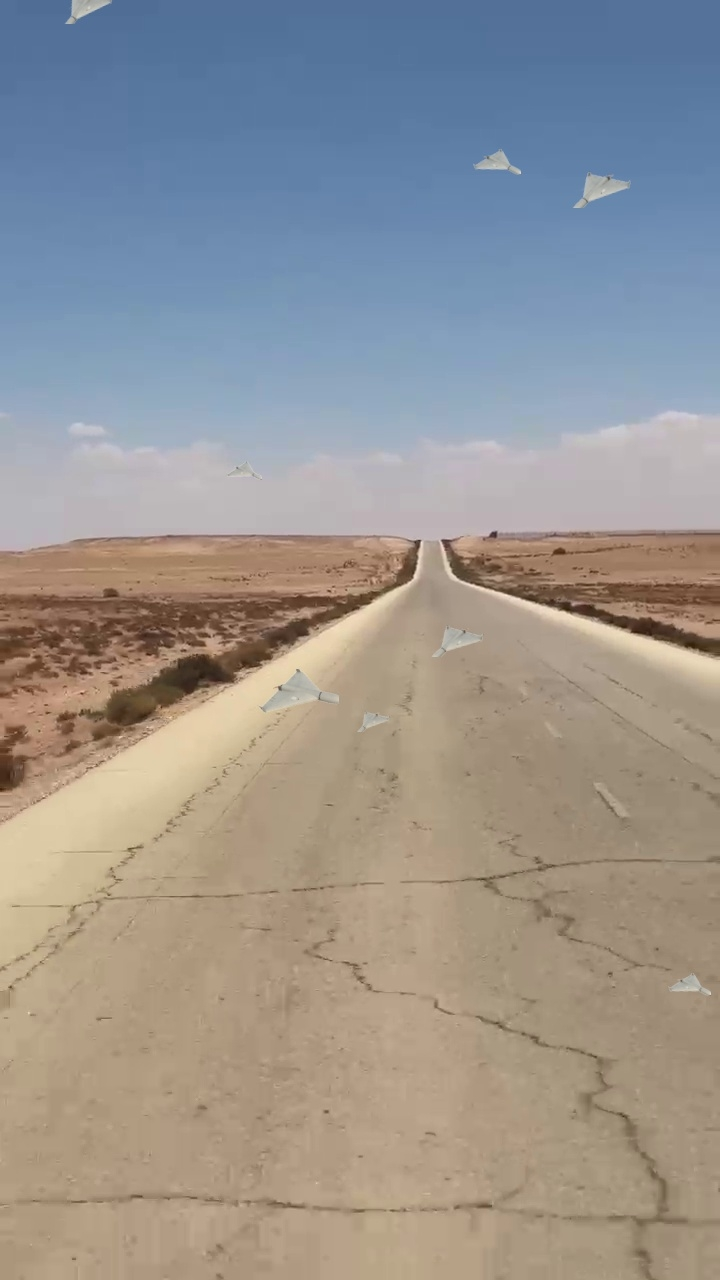shahed: (257, 670, 339, 718), (568, 170, 632, 208), (428, 624, 484, 656), (473, 150, 521, 178), (57, 0, 115, 23), (669, 974, 711, 998), (354, 711, 390, 733), (226, 461, 262, 481)
